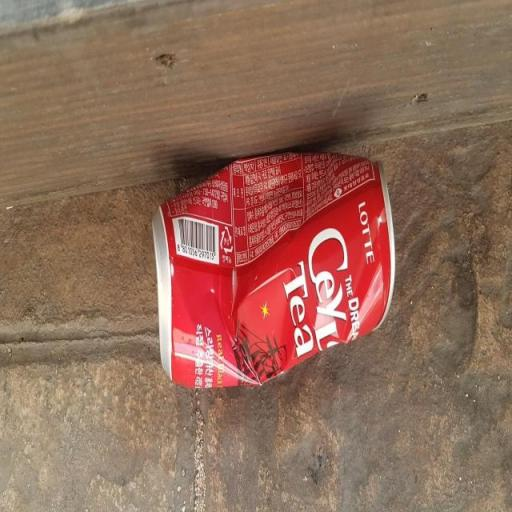metal: (132, 85, 420, 475)
